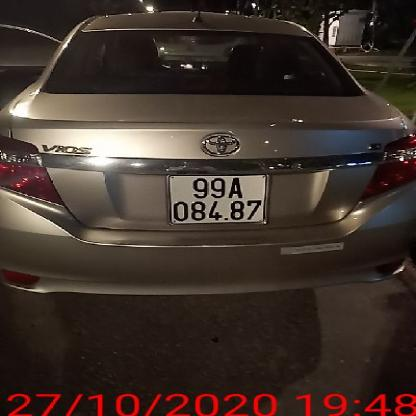biensoxe: (168, 166, 270, 230)
